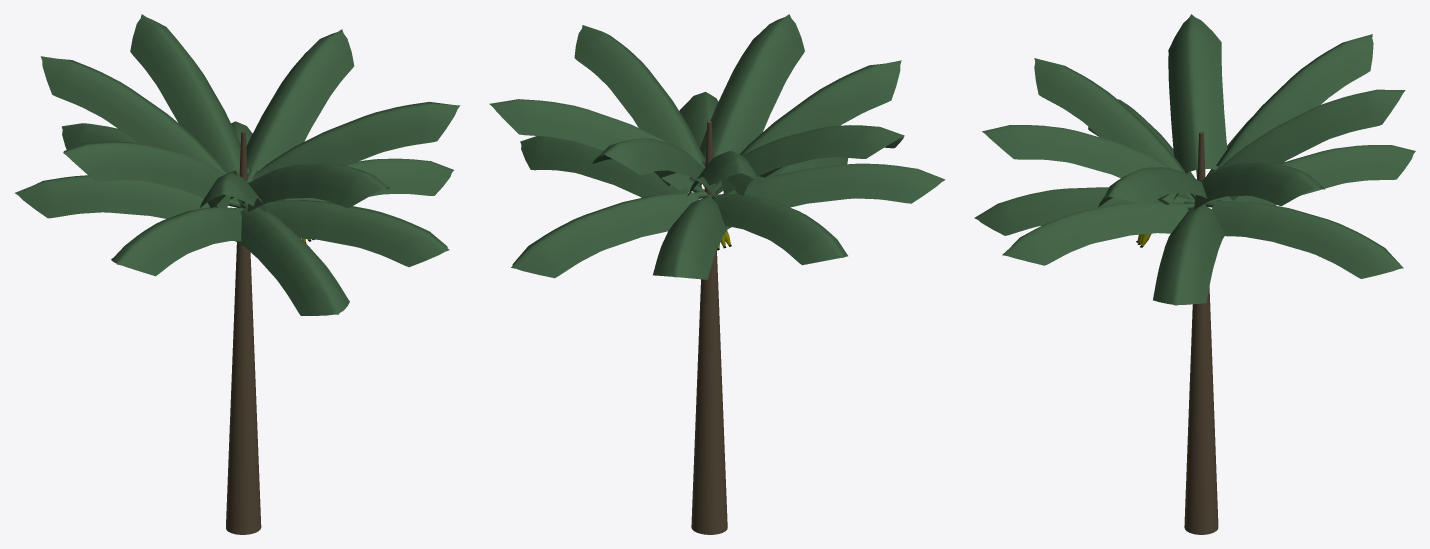
Rendered from bananatree.fbx.
The picture shows the model from 3 angles, left to right: view 1: azimuth 30°, elevation 25°; view 2: azimuth 150°, elevation 25°; view 3: azimuth 270°, elevation 25°; orthographic projection. The views are drawn at different scales.
Visible parts, largest first — view 1: pasted__pDisc3 (×12), pDisc1, pDisc3; view 2: pasted__pDisc3 (×13), pDisc1, pDisc3; view 3: pasted__pDisc3 (×11), pDisc1, pDisc3.
Boxes of the visible parts, x1=… form: pasted__pDisc3 (×12): x1=15, y1=29, x2=460, y2=315; pDisc1: x1=226, y1=131, x2=261, y2=534; pDisc3: x1=130, y1=14, x2=250, y2=175; pasted__pDisc3 (×13): x1=489, y1=14, x2=945, y2=279; pDisc1: x1=691, y1=121, x2=727, y2=534; pDisc3: x1=592, y1=138, x2=716, y2=197; pasted__pDisc3 (×11): x1=974, y1=14, x2=1415, y2=305; pDisc1: x1=1184, y1=131, x2=1218, y2=534; pDisc3: x1=1216, y1=89, x2=1405, y2=200.
Bounding box in the file's own units: 6.43 × 7.03 × 6.43.
